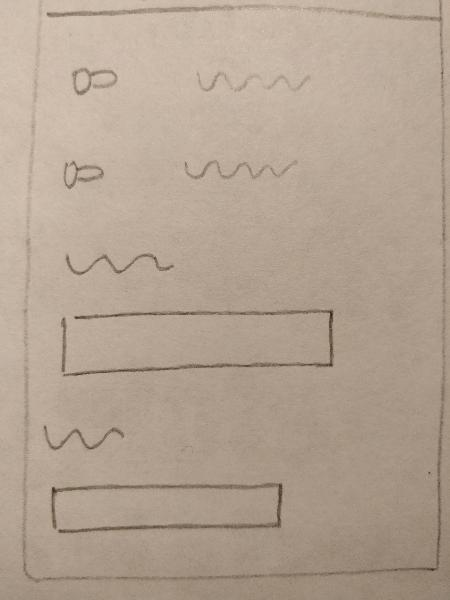switch: (64, 56, 121, 101), (56, 149, 113, 194)
text: (186, 58, 313, 108), (178, 144, 305, 194), (56, 233, 183, 283), (30, 408, 133, 459)
text_input: (51, 301, 343, 384), (44, 476, 287, 535)
